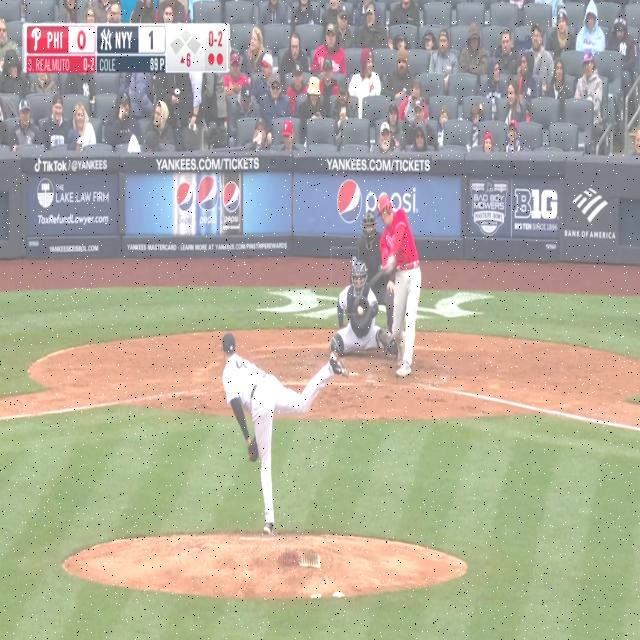baseball: (357, 306, 364, 316)
